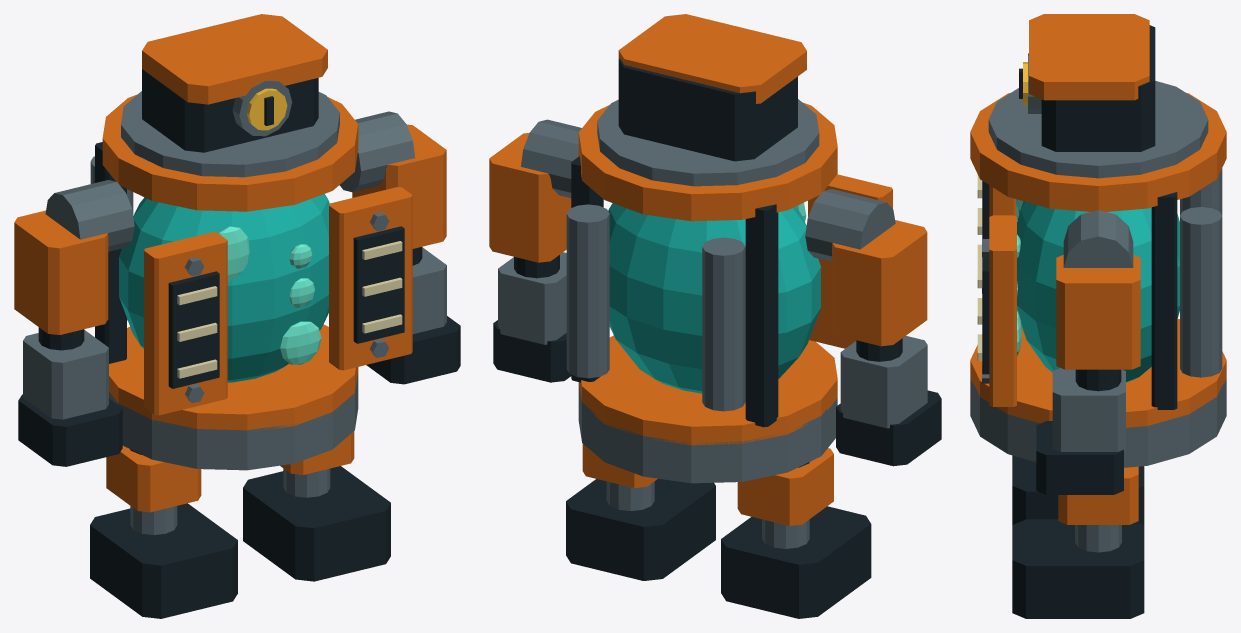
The model's file is DilatantSentinel.obj.
3 renders of one model, left to right at view 1: azimuth 30°, elevation 25°; view 2: azimuth 150°, elevation 25°; view 3: azimuth 270°, elevation 25°, orthographic.
Visible parts, largest first — view 1: GelCore, FootR, FootL, Brow, UpperClamp, LowerRim, ArmHousingL, LowerClamp, PlateR, PlateL, UpperRim, Head (+20 smaller); view 2: GelCore, LowerRim, FootL, Head, FootR, UpperClamp, LowerClamp, Brow, ArmHousingL, UpperRim, PressureTank-1, PressureTank1 (+16 smaller); view 3: FootR, UpperClamp, Brow, GelCore, UpperRim, ArmHousingR, PressureTank1, LowerClamp, Head, LowerRim, BackRail1, PlateR (+11 smaller).
Part boxes in pixels (x1,y1,x2,y2): GelCore: (119,194,329,382); FootR: (243,466,390,581); FootL: (90,503,237,618); Brow: (142,14,327,104); UpperClamp: (102,94,358,211); LowerRim: (109,324,358,432); ArmHousingL: (14,210,108,334); LowerClamp: (109,372,358,470); PlateR: (329,187,412,370); PlateL: (144,232,227,415); UpperRim: (121,91,339,177); Head: (142,69,318,152); GelCore: (608,203,820,393); LowerRim: (579,335,837,445); FootL: (721,506,871,618); Head: (618,58,797,161); FootR: (566,478,715,580); UpperClamp: (578,102,837,221); LowerClamp: (578,382,837,483); Brow: (618,14,806,103); ArmHousingL: (832,220,927,346); UpperRim: (597,99,819,186); PressureTank-1: (702,237,745,411); PressureTank1: (566,204,609,378); FootR: (1012,519,1144,618); UpperClamp: (970,93,1226,211); Brow: (1029,14,1149,100); GelCore: (1017,201,1179,382); UpperRim: (988,81,1208,178); ArmHousingR: (1056,255,1140,369); PressureTank1: (1180,207,1222,377); LowerClamp: (970,379,1226,467); Head: (1041,25,1155,151); LowerRim: (970,319,1226,427); BackRail1: (1151,192,1177,409); PlateR: (989,215,1016,406).
Size of the model in its own units: 1.28 by 1.54 by 0.7.
